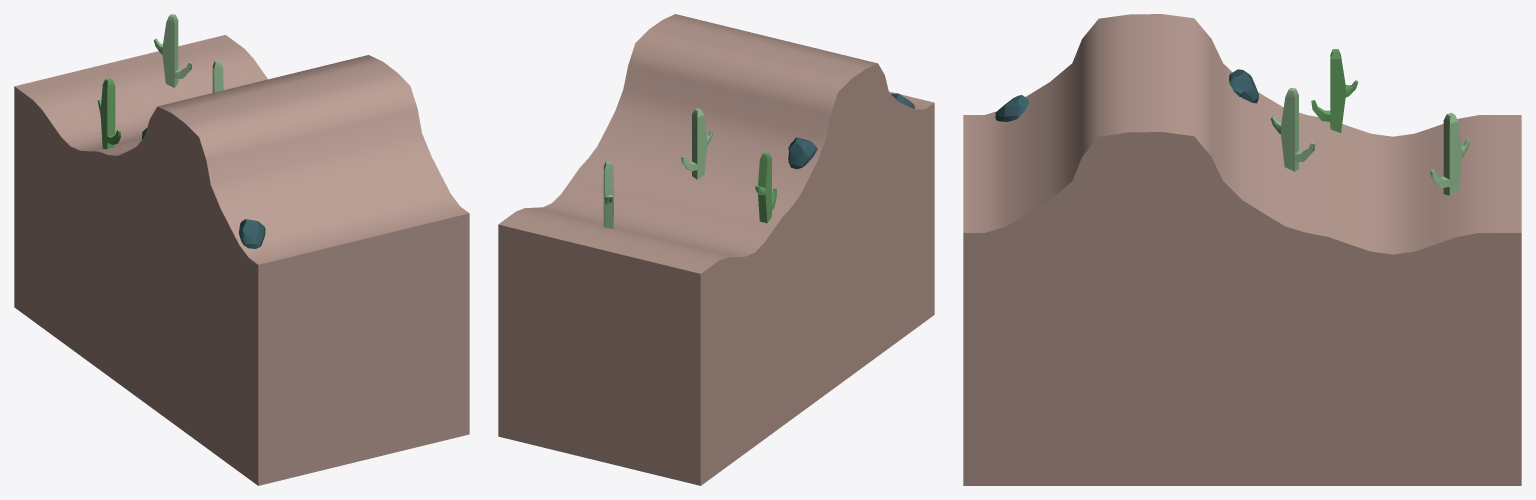
The model's file is New-Land-PLATEAU_RIGHT.fbx.
3 renders of one model, left to right at view 1: azimuth 30°, elevation 25°; view 2: azimuth 150°, elevation 25°; view 3: azimuth 270°, elevation 25°, orthographic. The views are drawn at different scales.
Parts seen in each view (by area): view 1: Land_Modules:Plateau_Left, pCube7, pCube8, pCube9; view 2: Land_Modules:Plateau_Left, pCube6, pCube8, pCube7, pCube10; view 3: Land_Modules:Plateau_Left, pCube7, pCube6, pCube8, pCube10, pCube9.
Boxes of the visible parts, x1,y1,x2,y2 form: Land_Modules:Plateau_Left: (14,35,469,485); pCube7: (153,14,192,87); pCube8: (97,78,120,149); pCube9: (239,219,265,248); Land_Modules:Plateau_Left: (498,14,934,485); pCube6: (681,108,713,179); pCube8: (755,152,776,223); pCube7: (603,161,613,228); pCube10: (788,137,817,169); Land_Modules:Plateau_Left: (963,14,1521,485); pCube7: (1430,112,1469,195); pCube6: (1270,87,1315,171); pCube8: (1311,49,1358,132); pCube10: (1229,69,1258,103); pCube9: (995,95,1028,121).
Size of the model in its own units: 1000 by 1400 by 2000.
